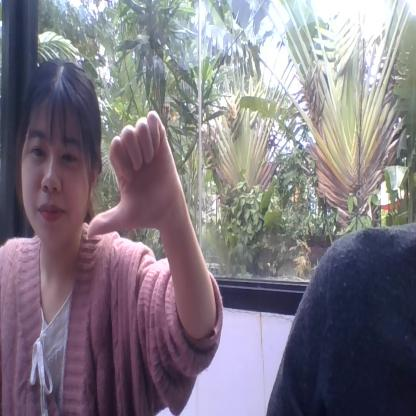right: (87, 111, 176, 241)
